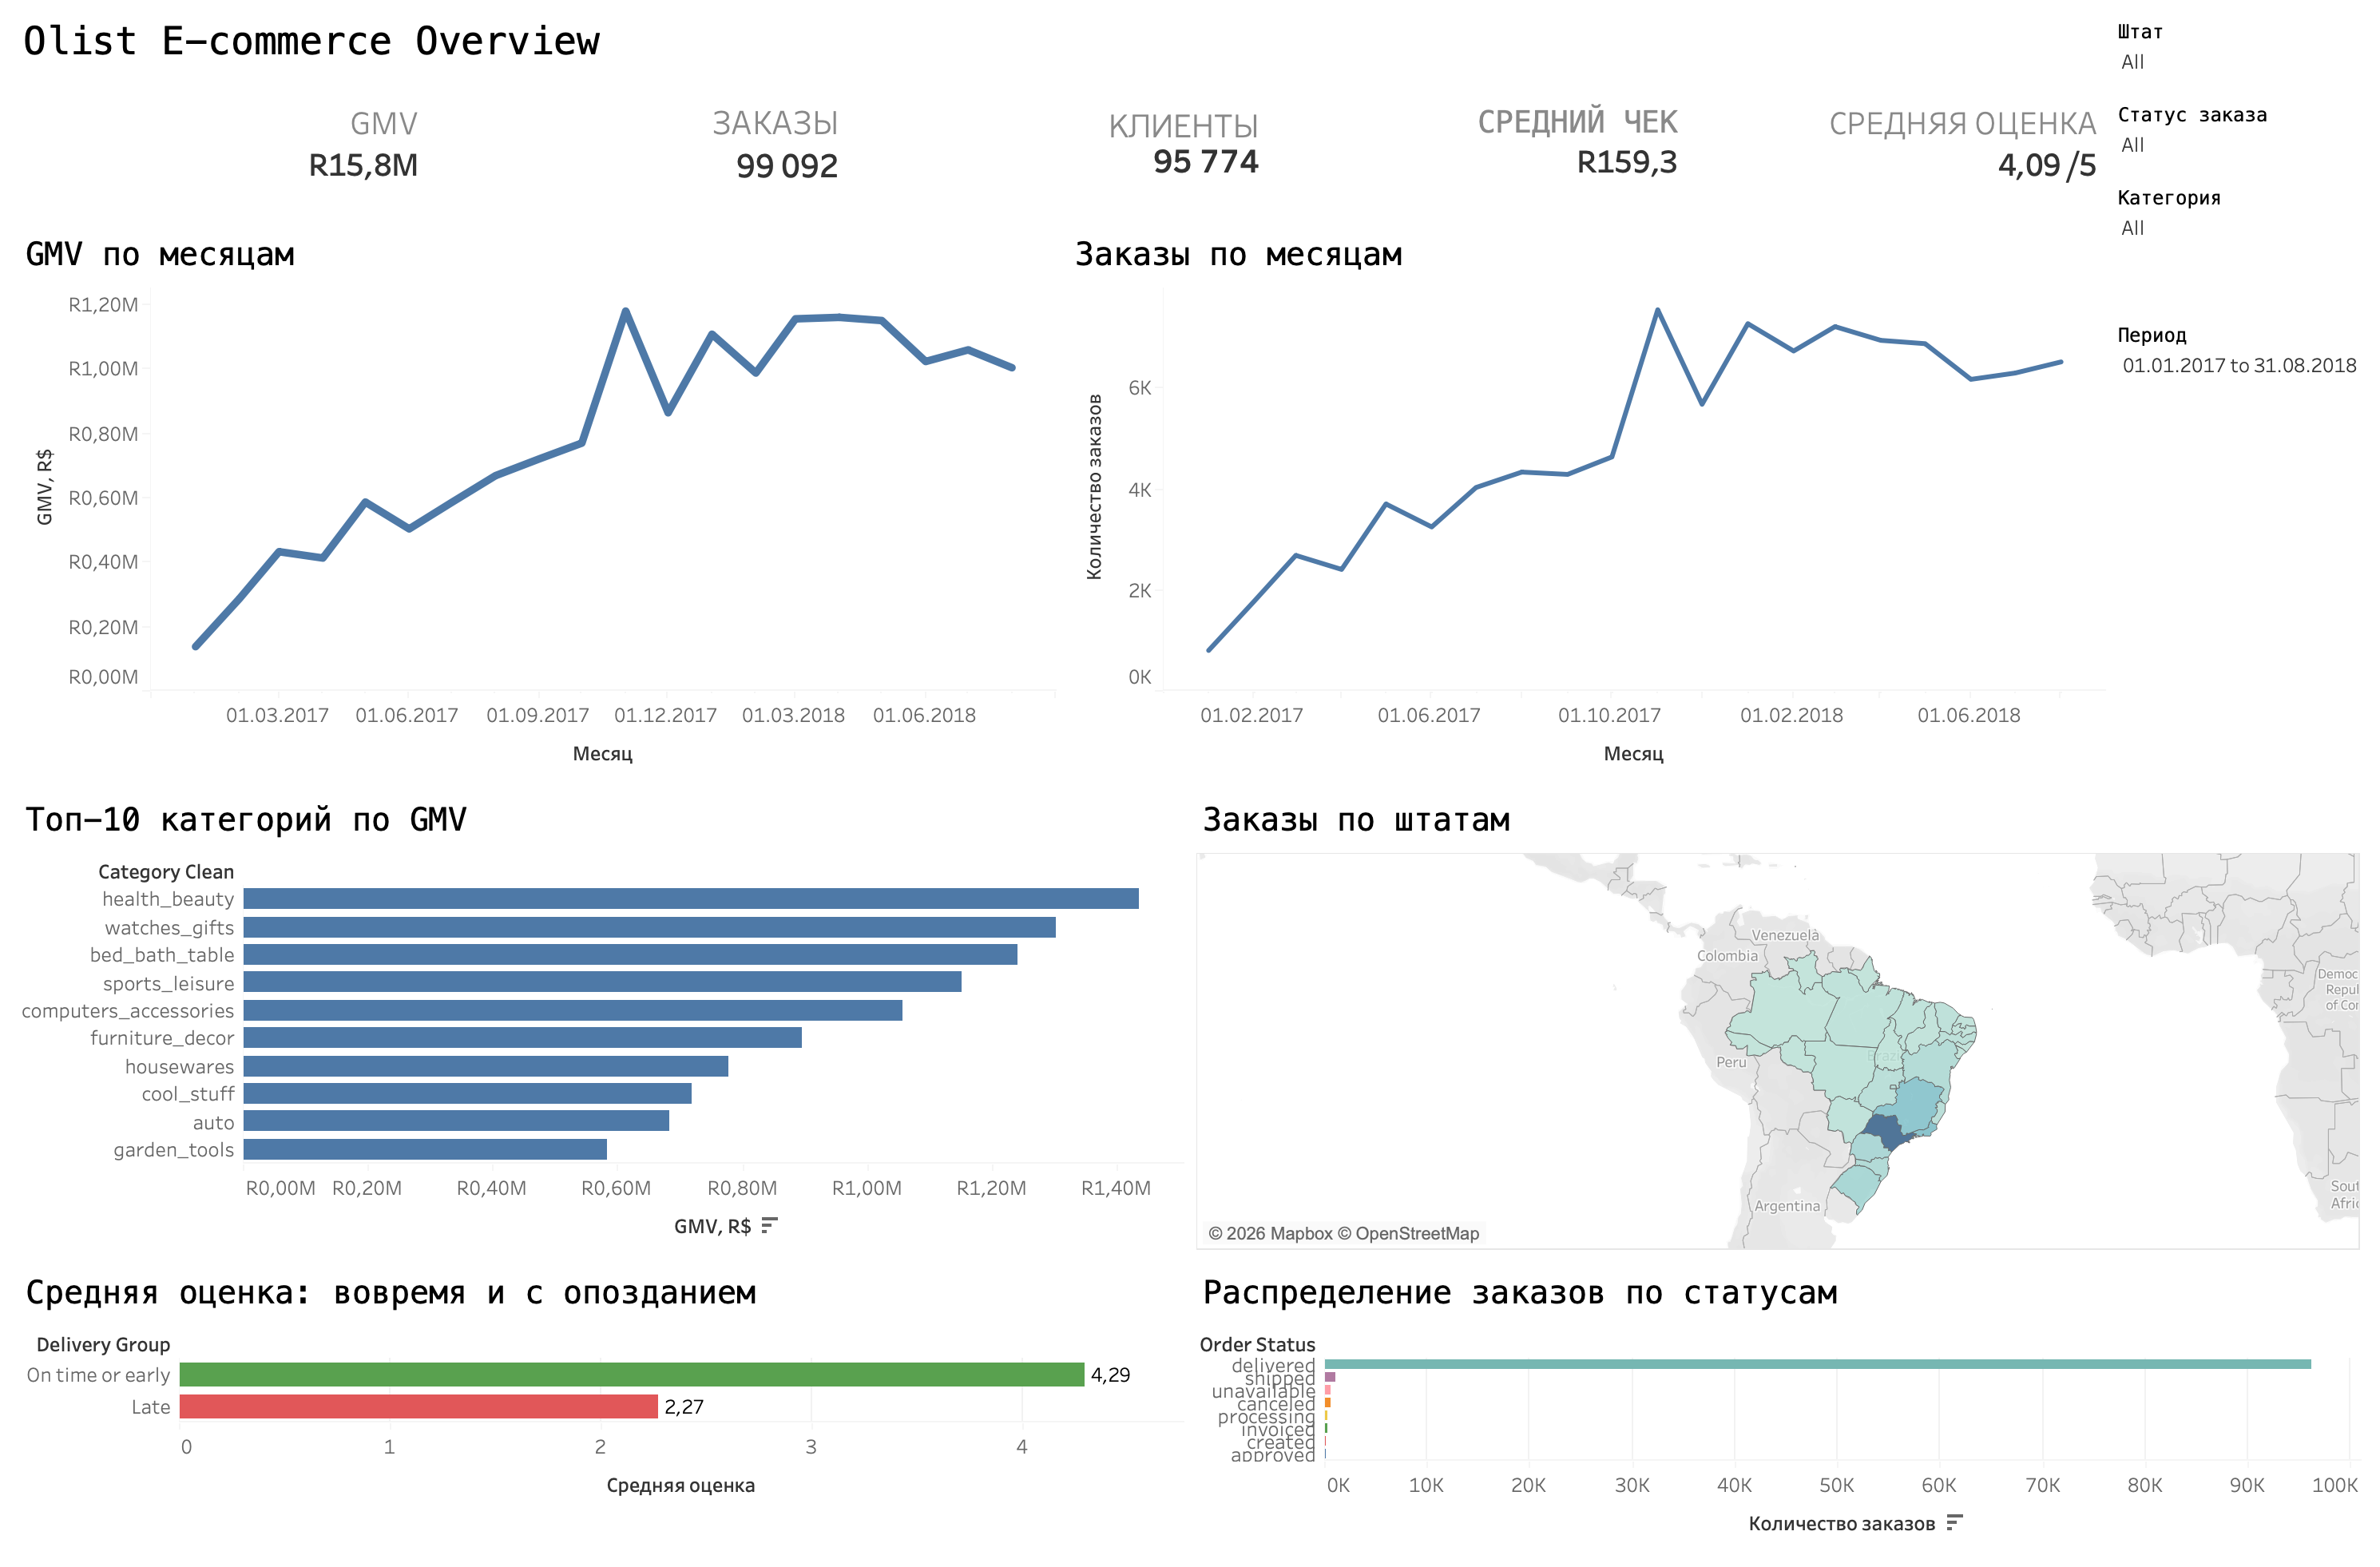

The dashboard page shown, as its layout file describes it:
{"tool":"tableau","page":{"name":"DASHBOARD — Olist Overview","canvas":[1000,1000],"units":"permille","ordinal":0},"visuals":[{"type":"title","box":[4.8,9.4,895.5,42.5]},{"type":"filter","title":"MAP — Customer States","param":"[federated.0z63i1q0upljid1ez2ag9110e76j].[none:customer_state:nk]","box":[900.2,9.4,95,191]},{"type":"worksheet","title":"KPI — GMV","mark":"Automatic","box":[4.8,51.9,179.1,93.5]},{"type":"worksheet","title":"KPI — Orders","mark":"Automatic","box":[183.8,51.9,179.1,93.5]},{"type":"worksheet","title":"KPI — Customers","mark":"Automatic","box":[362.9,51.9,179.1,93.5]},{"type":"worksheet","title":"KPI — AOV","mark":"Automatic","box":[542,51.9,179.1,93.5]},{"type":"worksheet","title":"KPI — Review Score","mark":"Automatic","box":[721.1,51.9,179.1,93.5]},{"type":"worksheet","title":"CHART — Monthly GMV","mark":"Automatic","rows":["Calculation_4892926077669379"],"cols":["Calculation_4892926077497346"],"box":[4.8,145.1,447.7,354.9]},{"type":"worksheet","title":"CHART — Monthly Orders","mark":"Automatic","rows":["order_id"],"cols":["Calculation_4892926077497346"],"box":[452.5,145.1,447.8,354.9]},{"type":"filter","title":"BAR — Order Status","param":"[federated.0z63i1q0upljid1ez2ag9110e76j].[none:order_status:nk]","box":[900.2,200.5,95,61.3]},{"type":"filter","title":"BAR — Top Categories","param":"[federated.0z63i1q0upljid1ez2ag9110e76j].[none:Calculation_4892926087778308:nk]","box":[900.2,261.8,95,101.4]},{"type":"filter","title":"CHART — Monthly GMV","param":"[federated.0z63i1q0upljid1ez2ag9110e76j].[none:Calculation_4892926077497346:qk]","box":[900.2,363.2,95,81.4]},{"type":"worksheet","title":"BAR — Top Categories","mark":"Automatic","rows":["Calculation_4892926087778308"],"cols":["Calculation_4892926077669379"],"box":[4.8,500,495.2,301.9]},{"type":"worksheet","title":"MAP — Customer States","mark":"Automatic","box":[500,500,495.2,301.9]},{"type":"worksheet","title":"BAR — Delivery Review","mark":"Automatic","rows":["Calculation_4892926290952198"],"cols":["review_score"],"box":[4.8,801.4,495.2,189.1]},{"type":"worksheet","title":"BAR — Order Status","mark":"Automatic","rows":["order_status"],"cols":["order_id"],"box":[500,801.4,495.2,189.1]}]}

Visuals, with their boxes on the dashboard's canvas, which has no fixed pixel size, in thousandths of its width and height (x1, y1, x2, y2). These are canvas units, not pixel positions in the 2380x1567 screenshot, which may show the page scaled, cropped or inside an application window:
title: (x1=5, y1=9, x2=900, y2=52)
"MAP — Customer States" filter: (x1=900, y1=9, x2=995, y2=200)
"KPI — GMV" worksheet: (x1=5, y1=52, x2=184, y2=145)
"KPI — Orders" worksheet: (x1=184, y1=52, x2=363, y2=145)
"KPI — Customers" worksheet: (x1=363, y1=52, x2=542, y2=145)
"KPI — AOV" worksheet: (x1=542, y1=52, x2=721, y2=145)
"KPI — Review Score" worksheet: (x1=721, y1=52, x2=900, y2=145)
"CHART — Monthly GMV" worksheet: (x1=5, y1=145, x2=452, y2=500)
"CHART — Monthly Orders" worksheet: (x1=452, y1=145, x2=900, y2=500)
"BAR — Order Status" filter: (x1=900, y1=200, x2=995, y2=262)
"BAR — Top Categories" filter: (x1=900, y1=262, x2=995, y2=363)
"CHART — Monthly GMV" filter: (x1=900, y1=363, x2=995, y2=445)
"BAR — Top Categories" worksheet: (x1=5, y1=500, x2=500, y2=802)
"MAP — Customer States" worksheet: (x1=500, y1=500, x2=995, y2=802)
"BAR — Delivery Review" worksheet: (x1=5, y1=801, x2=500, y2=990)
"BAR — Order Status" worksheet: (x1=500, y1=801, x2=995, y2=990)
